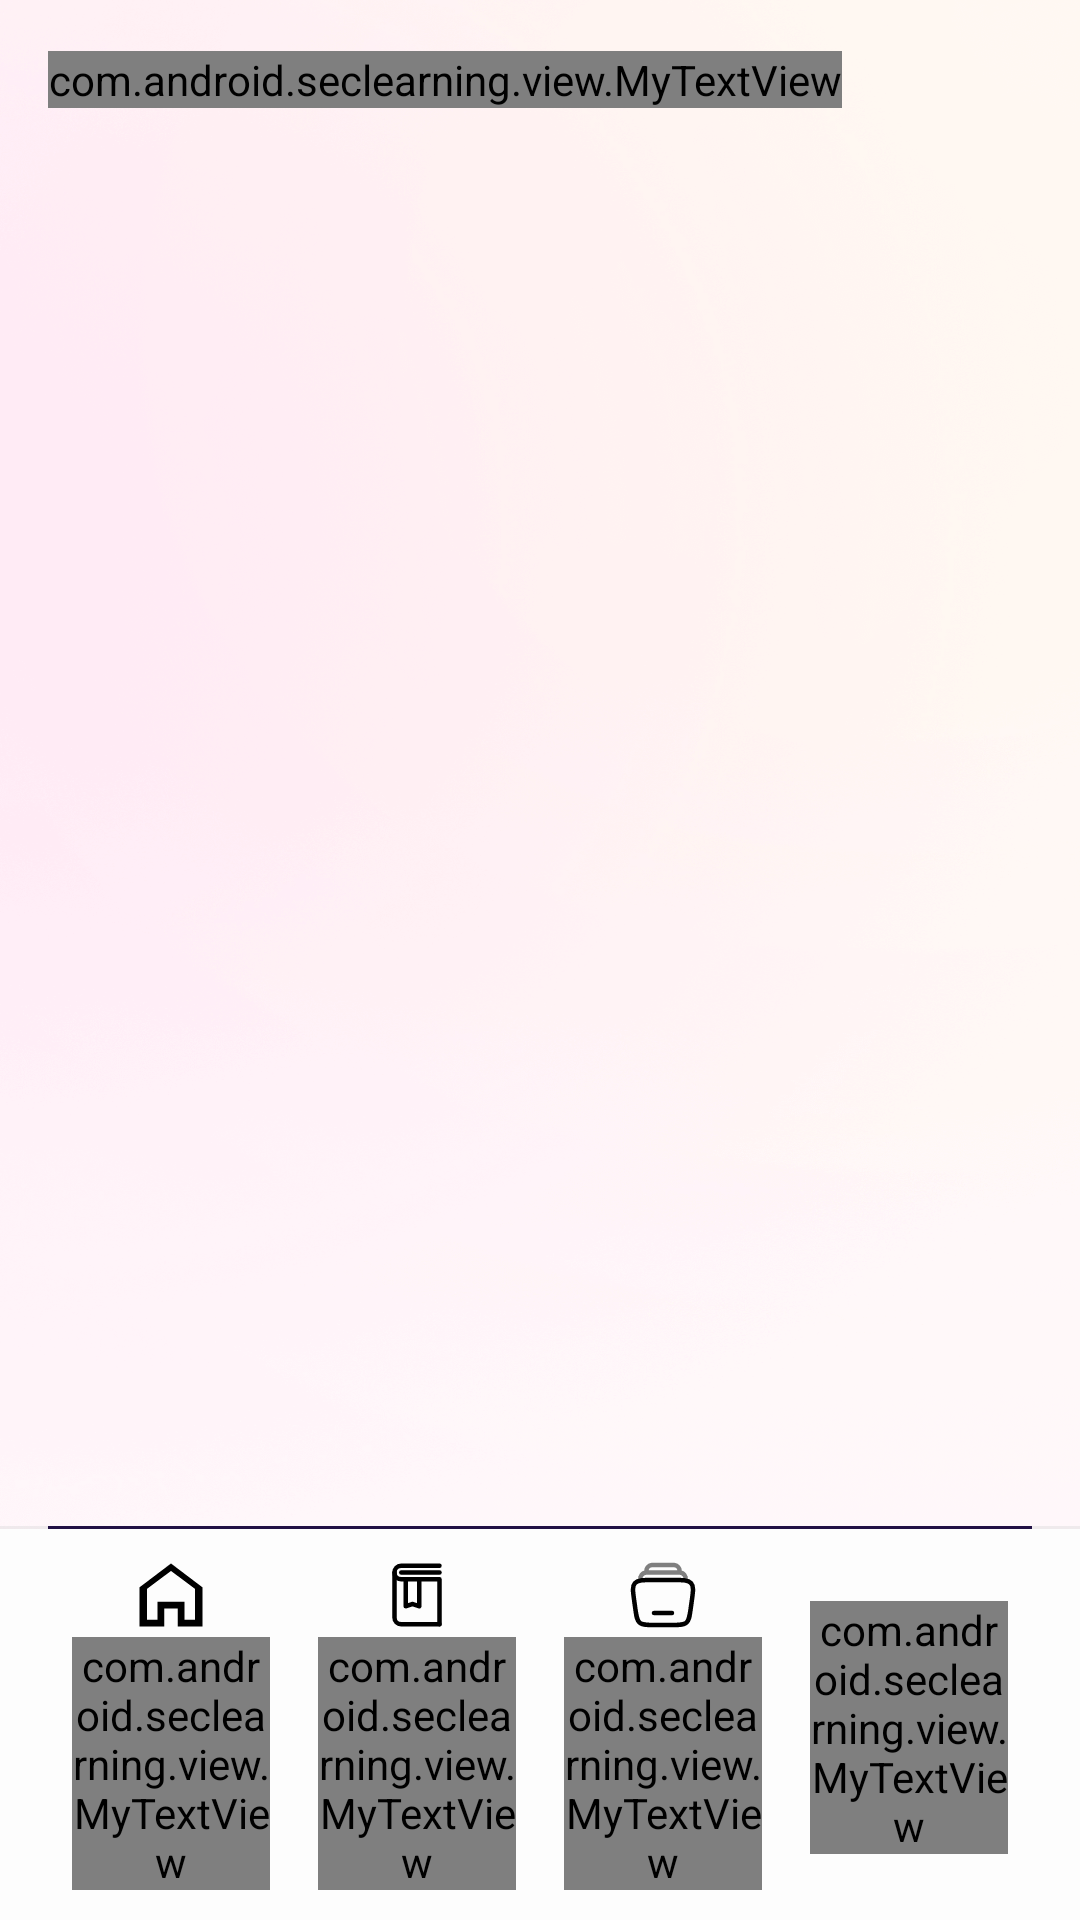

Icon bounding boxes for this 1080×1920 phone screenshot, format (left=x1, top=y1, right=x2, bottom=y2):
home: (left=139, top=1563, right=203, bottom=1627)
